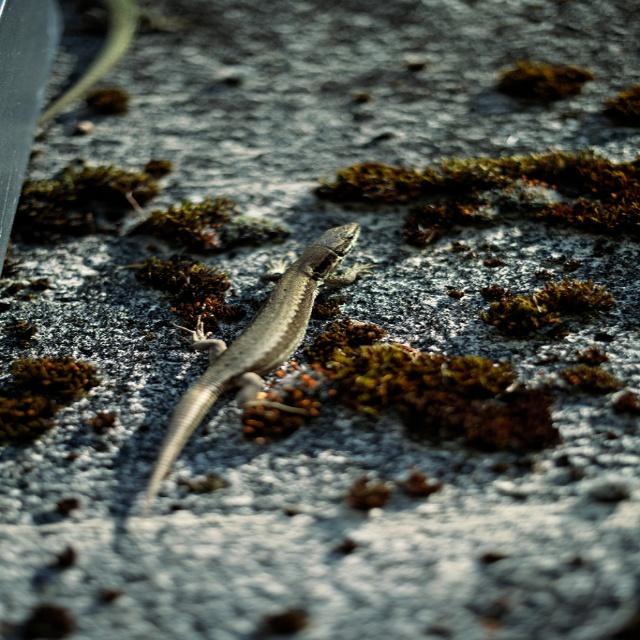Lizard: (144, 236, 371, 527)
